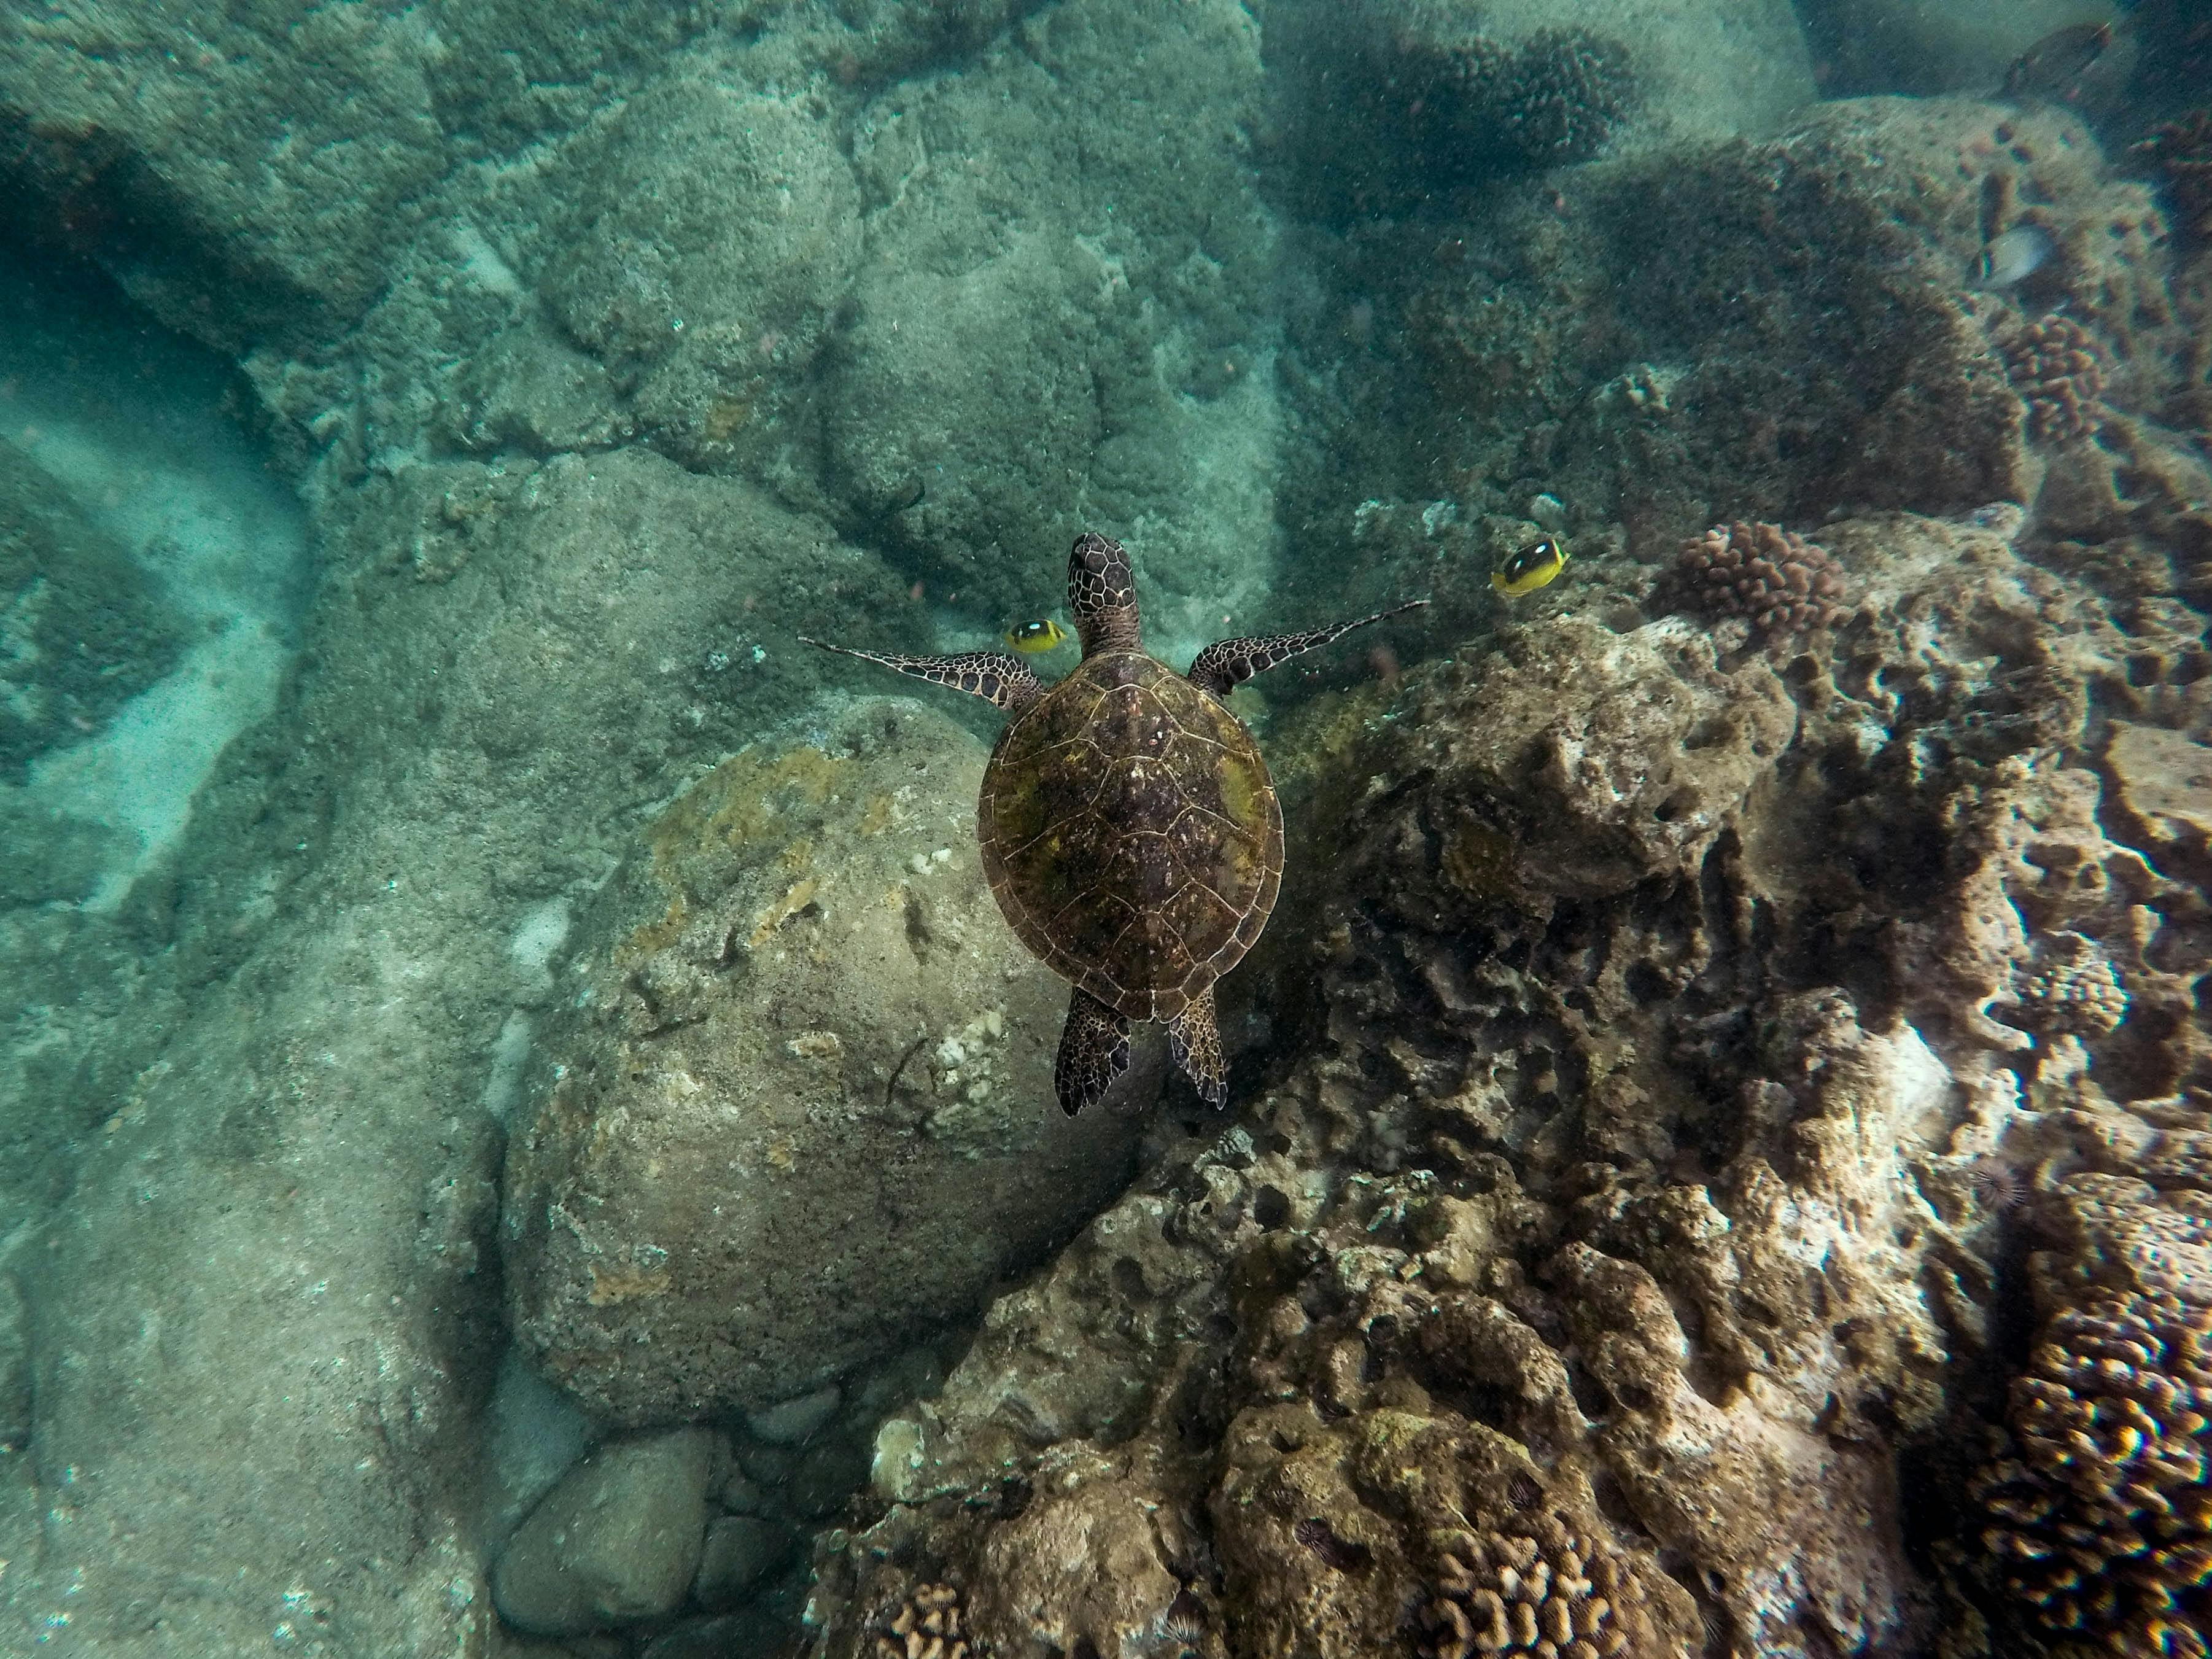fishRound: (1486, 533, 1578, 608), (993, 610, 1069, 660)
turtle: (792, 526, 1440, 1126)
